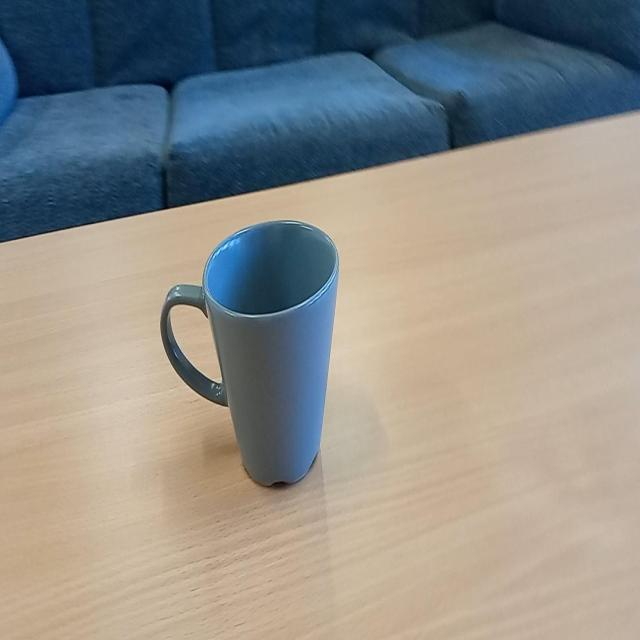cup: (158, 217, 344, 494)
